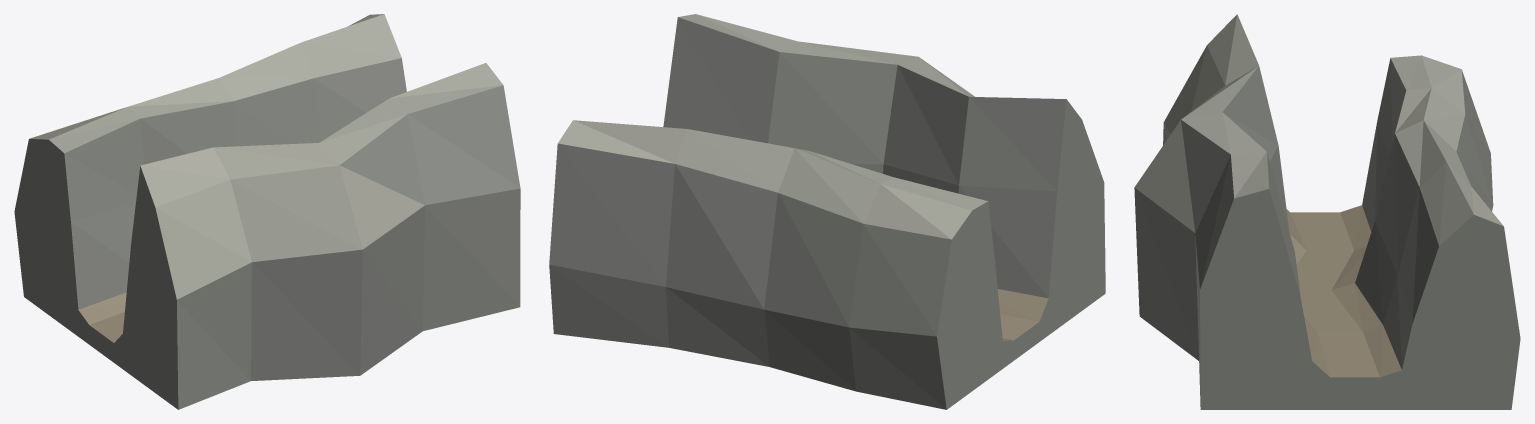
The picture shows the model from 3 angles, left to right: view 1: azimuth 30°, elevation 25°; view 2: azimuth 150°, elevation 25°; view 3: azimuth 270°, elevation 25°; orthographic projection. The views are drawn at different scales.
Parts seen in each view (by area): view 1: WholeContinuousDryRockRavine; view 2: WholeContinuousDryRockRavine; view 3: WholeContinuousDryRockRavine.
Boxes of the visible parts, x1=… form: WholeContinuousDryRockRavine: x1=14, y1=14, x2=520, y2=409; WholeContinuousDryRockRavine: x1=549, y1=14, x2=1105, y2=409; WholeContinuousDryRockRavine: x1=1134, y1=14, x2=1520, y2=409.
Size of the model in its own units: 4.22 by 2.45 by 3.87.
